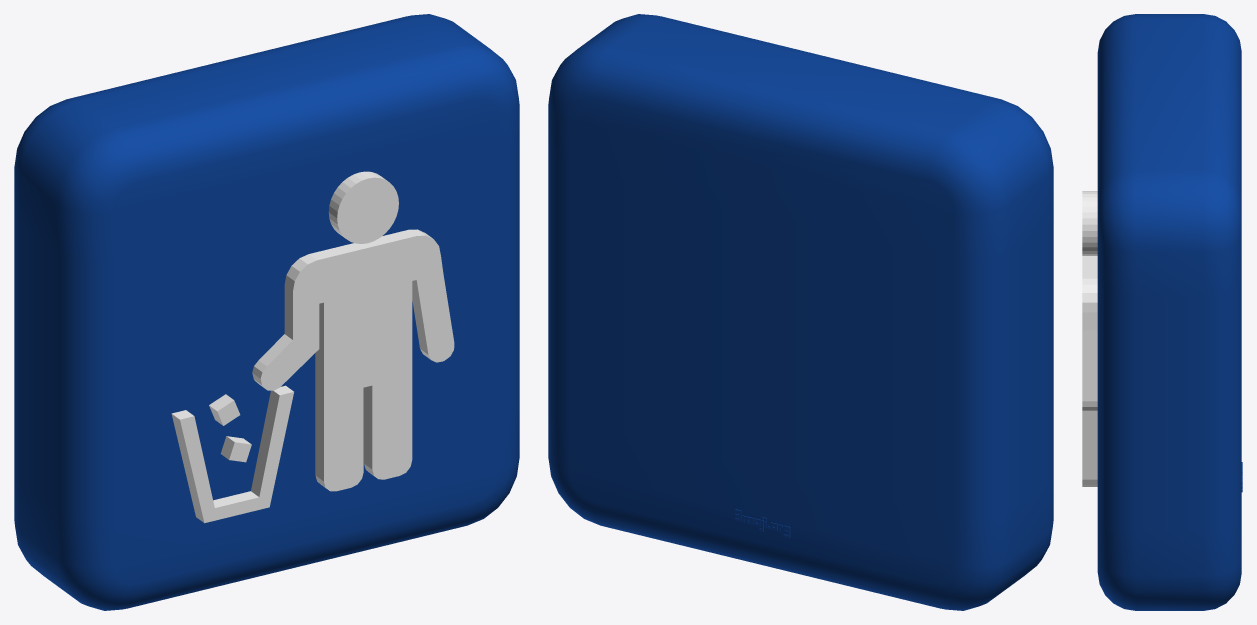
Rendered from litter_in_bin_sign.fbx.
3 renders of one model, left to right at view 1: azimuth 30°, elevation 25°; view 2: azimuth 150°, elevation 25°; view 3: azimuth 270°, elevation 25°, orthographic. The views are drawn at different scales.
Visible parts, largest first — view 1: Cube.115; view 2: Cube.115; view 3: Cube.115.
Boxes of the visible parts, <box> form: Cube.115: <box>14,14,519,610</box>; Cube.115: <box>548,14,1053,610</box>; Cube.115: <box>1082,14,1242,610</box>.
Bounding box in the file's own units: 220 × 220 × 73.41.
1 material, 1 textured.
